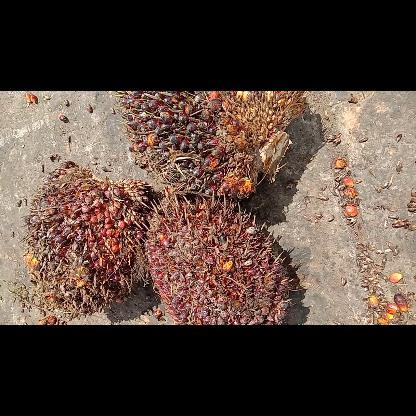Kurang masak: (17, 158, 152, 310)
TBS masak: (112, 91, 306, 201), (140, 188, 296, 324)
